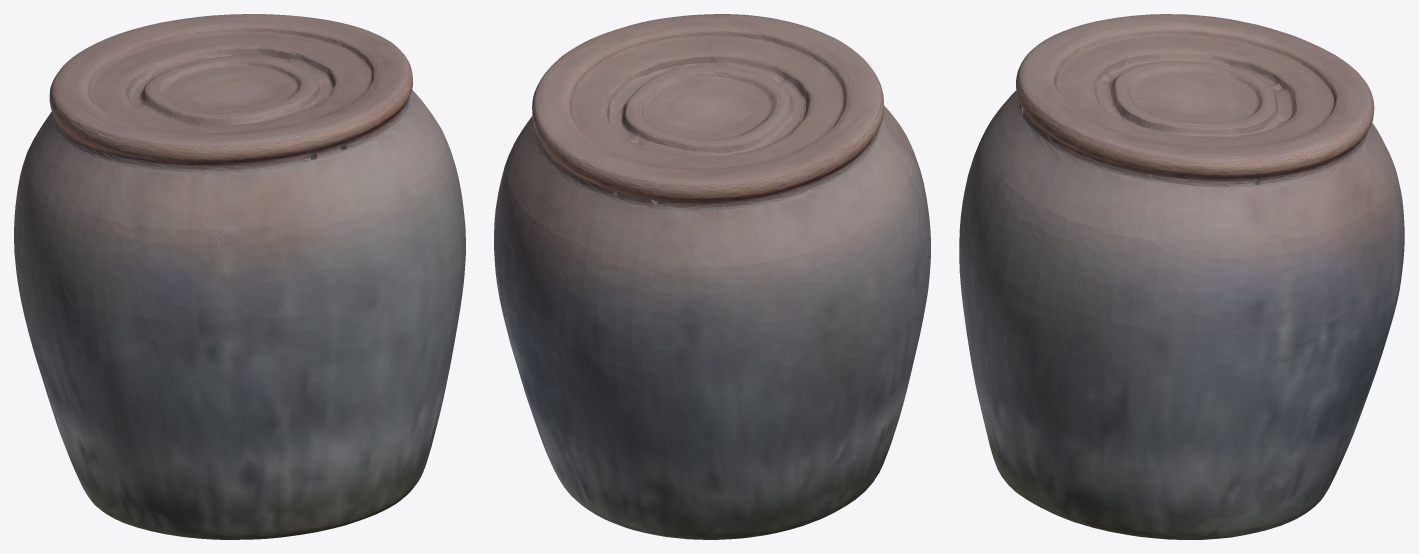
Rendered from large_light-colored_ceramic_jar_in_foreground_000.glb.
3 renders of one model, left to right at view 1: azimuth 30°, elevation 25°; view 2: azimuth 150°, elevation 25°; view 3: azimuth 270°, elevation 25°, orthographic. The views are drawn at different scales.
Visible parts, largest first — view 1: large_light-colored_ceramic_jar_in_foreground_000.obj; view 2: large_light-colored_ceramic_jar_in_foreground_000.obj; view 3: large_light-colored_ceramic_jar_in_foreground_000.obj.
Part boxes in pixels (<box>): large_light-colored_ceramic_jar_in_foreground_000.obj: <box>14,14,465,539</box>; large_light-colored_ceramic_jar_in_foreground_000.obj: <box>494,14,930,539</box>; large_light-colored_ceramic_jar_in_foreground_000.obj: <box>959,14,1404,539</box>.
Bounding box in the file's own units: 0.2348 × 0.2385 × 0.2352.
1 material, 1 textured.
